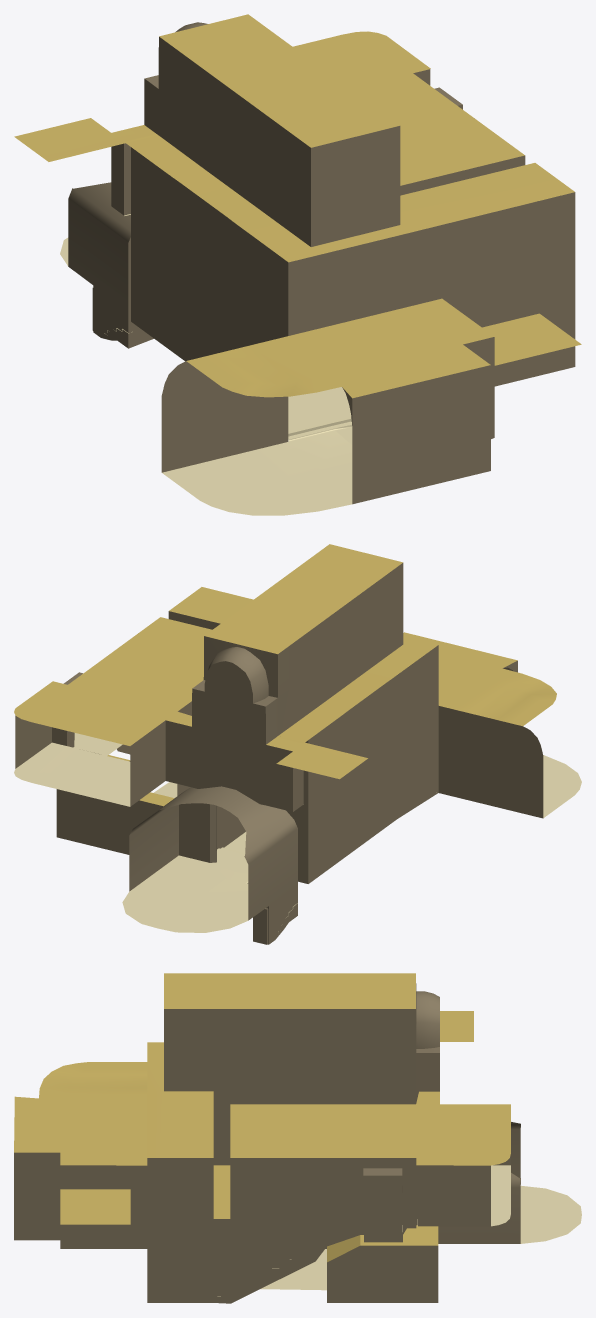
The model's file is Panther_Collision.fbx.
3 renders of one model, top to bottom at view 1: azimuth 30°, elevation 25°; view 2: azimuth 150°, elevation 25°; view 3: azimuth 270°, elevation 25°, orthographic. The views are drawn at different scales.
Visible parts, largest first — view 1: Walls, Ceiling, Floor; view 2: Walls, Ceiling, Floor; view 3: Walls, Ceiling, Floor.
Part boxes in pixels (<box>): Walls: <box>68,22,575,504</box>; Ceiling: <box>14,14,581,398</box>; Floor: <box>60,214,352,515</box>; Walls: <box>15,563,543,944</box>; Ceiling: <box>14,544,556,806</box>; Floor: <box>14,733,581,933</box>; Walls: <box>14,983,520,1303</box>; Ceiling: <box>14,973,510,1262</box>; Floor: <box>217,1165,581,1296</box>.
Size of the model in its own units: 1386 by 973 by 1904.
